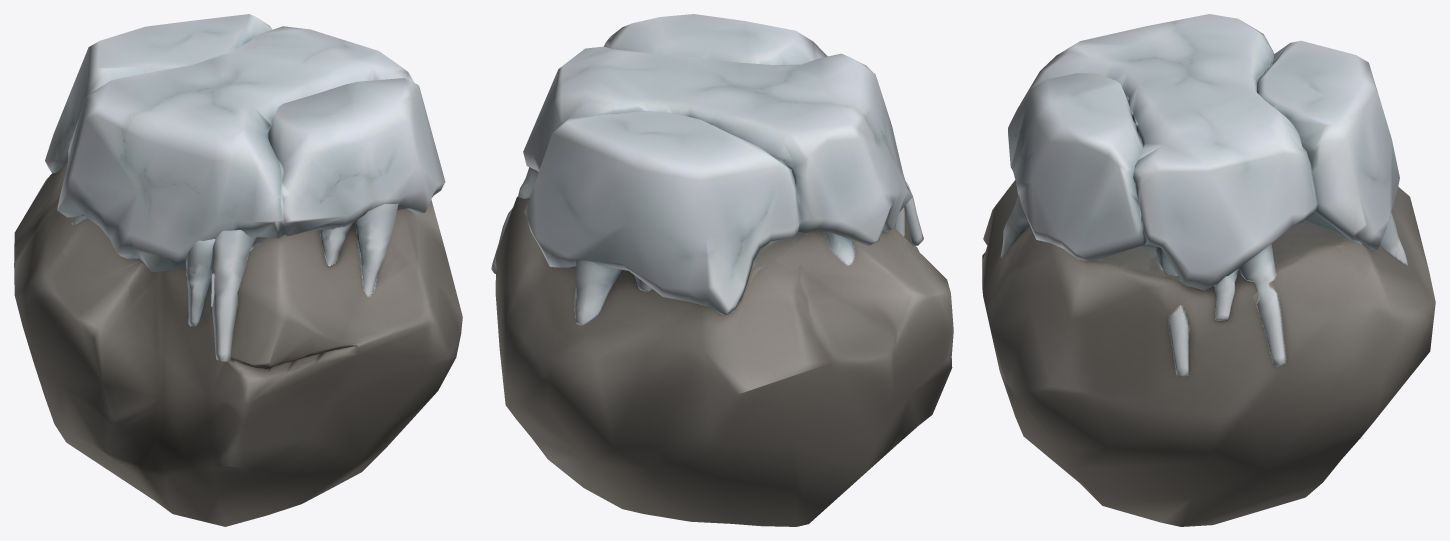
The model's file is original_glb.glb.
3 renders of one model, left to right at view 1: azimuth 30°, elevation 25°; view 2: azimuth 150°, elevation 25°; view 3: azimuth 270°, elevation 25°, orthographic. The views are drawn at different scales.
Visible parts, largest first — view 1: Ice-Capped Rock; view 2: Ice-Capped Rock; view 3: Ice-Capped Rock.
Part boxes in pixels (x1,y1,x2,y2): Ice-Capped Rock: (14,14,462,526); Ice-Capped Rock: (491,14,953,526); Ice-Capped Rock: (982,14,1435,526).
Bounding box in the file's own units: 0.9785 × 0.998 × 0.9668.
Materials: 1 (1 with a texture image).
